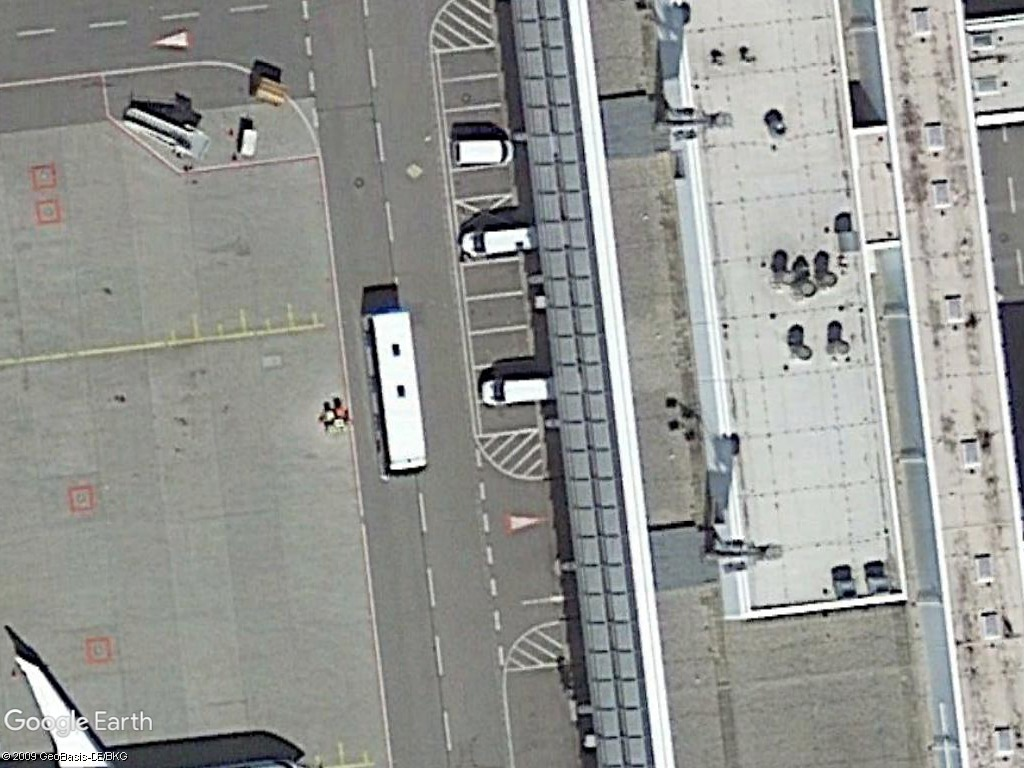bus: (358, 302, 435, 489)
stairtruck: (119, 102, 219, 169)
van: (453, 219, 540, 270), (474, 372, 550, 411), (448, 137, 517, 172)
